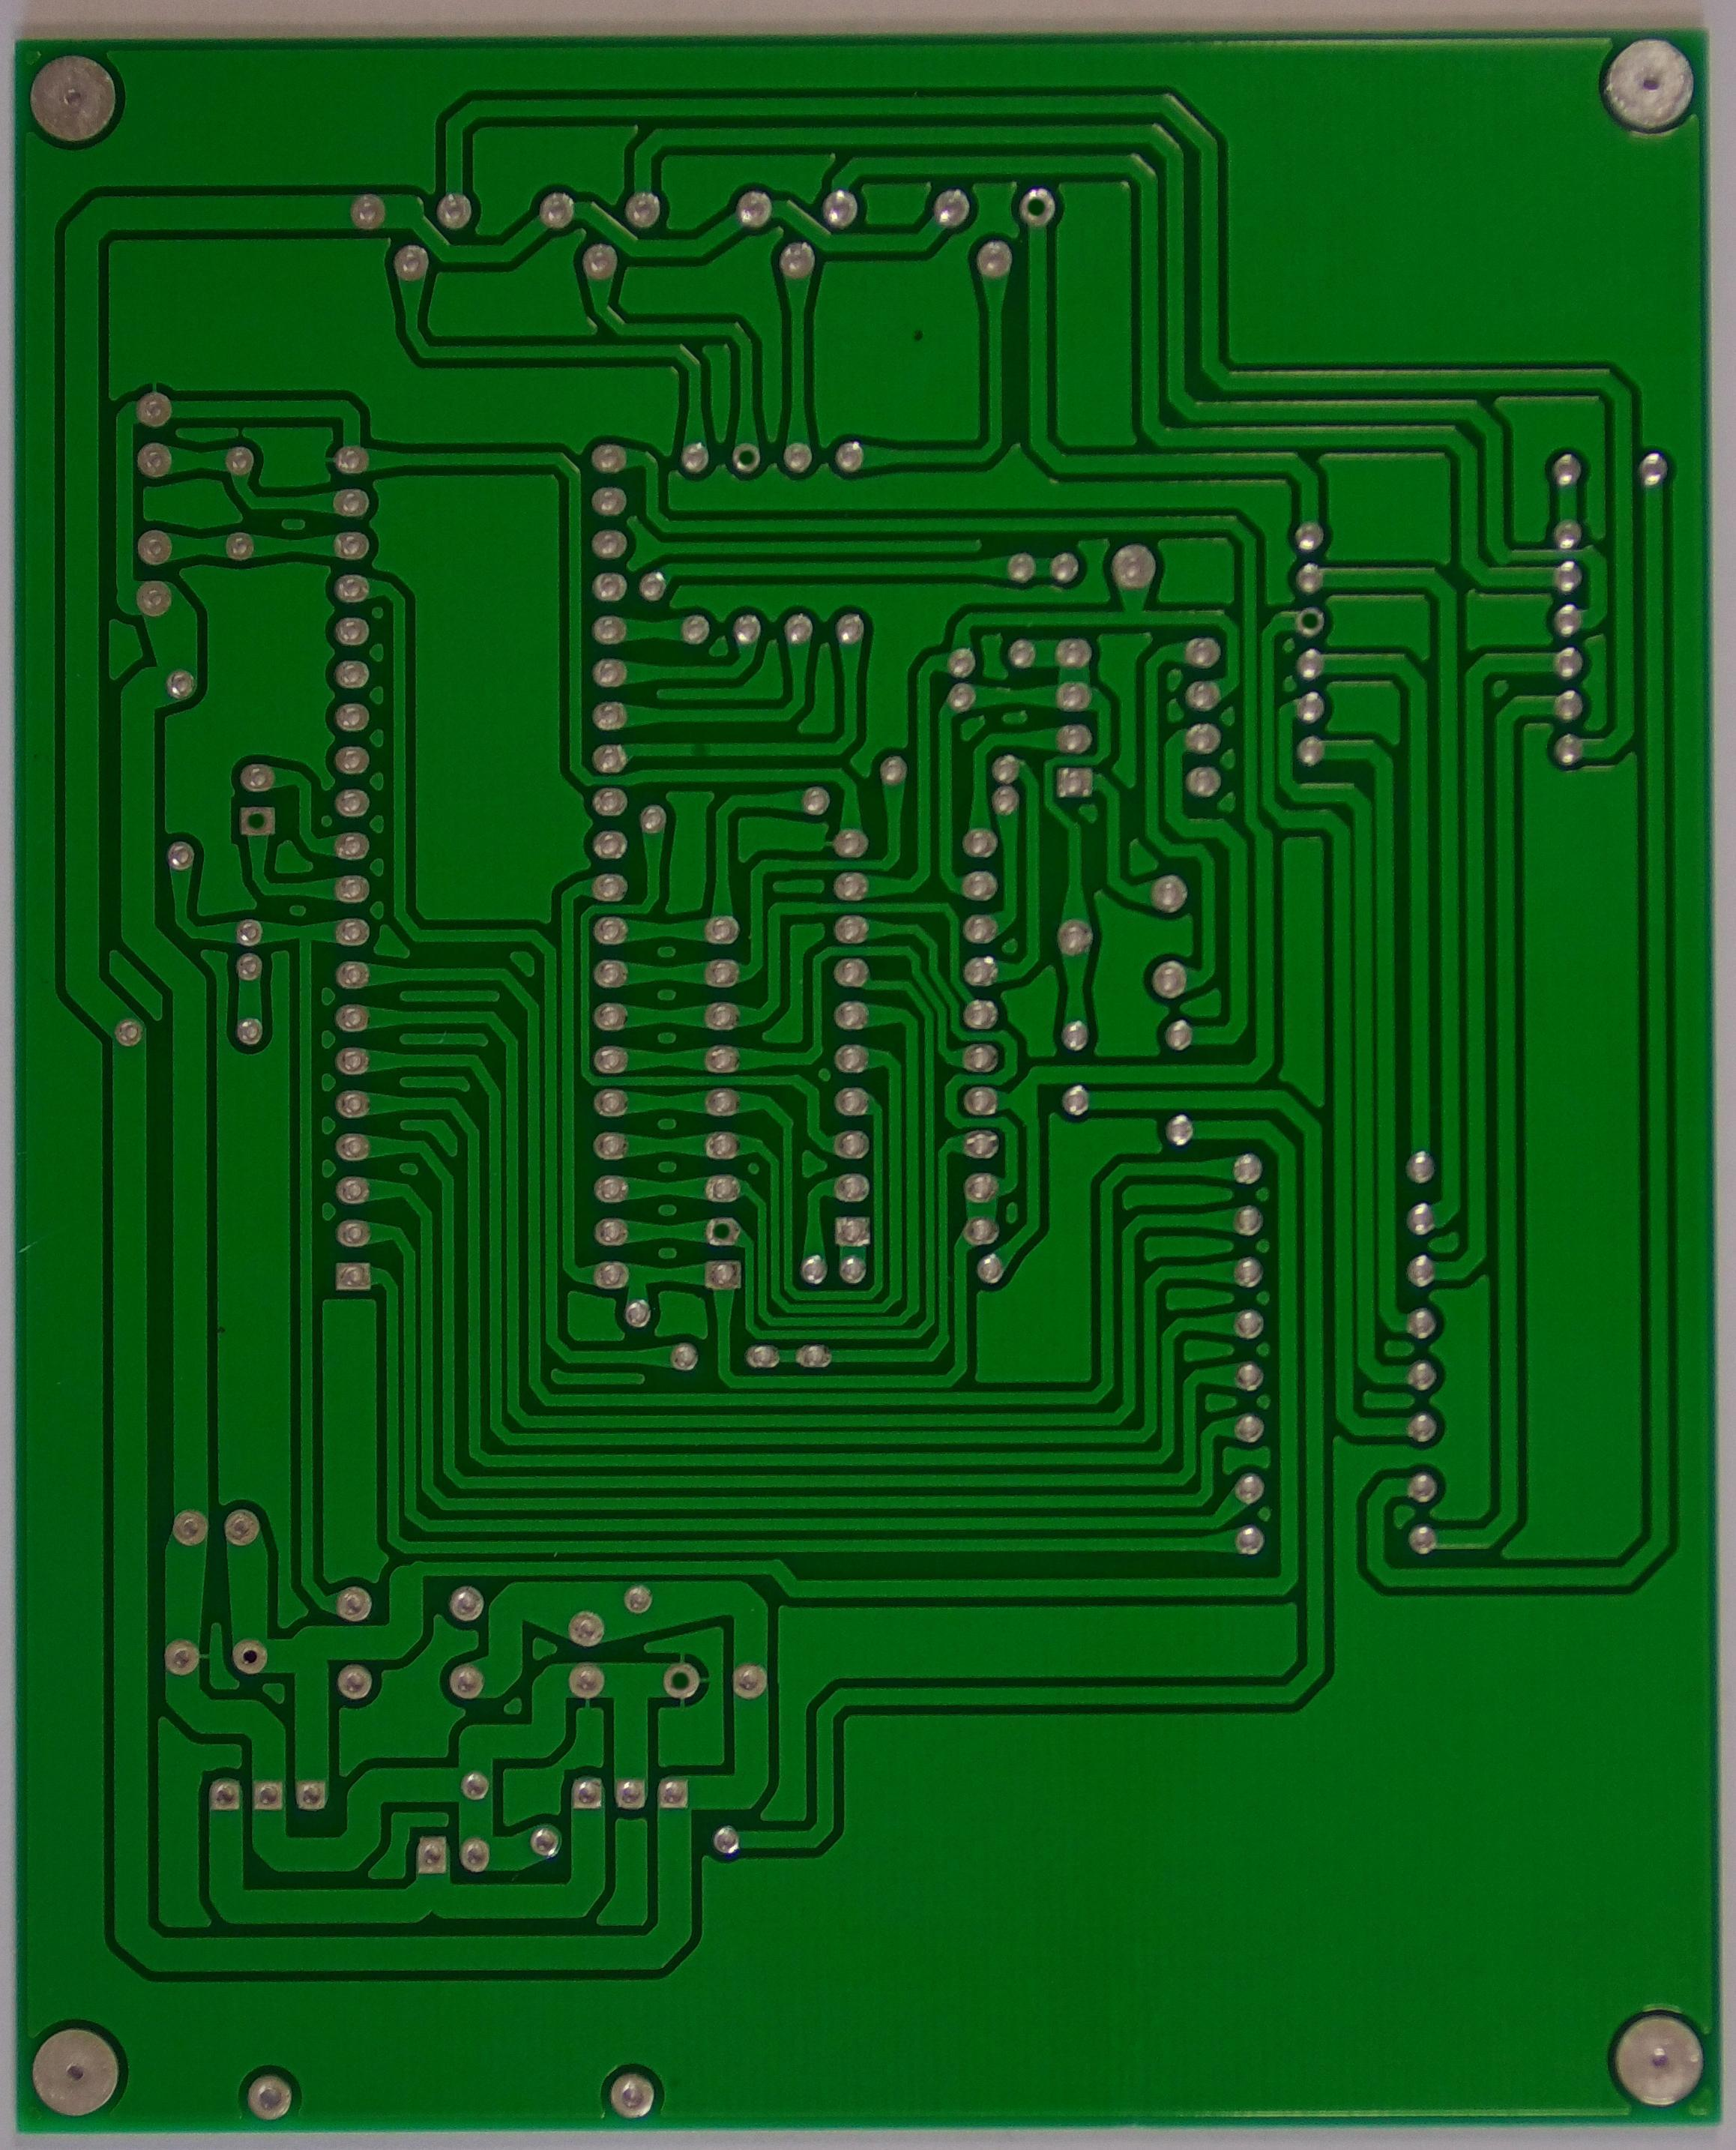missing_hole: (1008, 175, 1063, 241), (229, 792, 283, 850), (654, 1649, 701, 1711), (721, 434, 769, 487), (698, 1210, 746, 1254), (1288, 600, 1334, 645)
